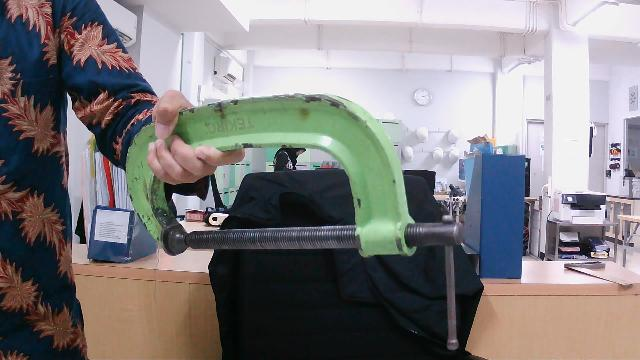tekiro_c_clamp: (120, 84, 463, 353)
